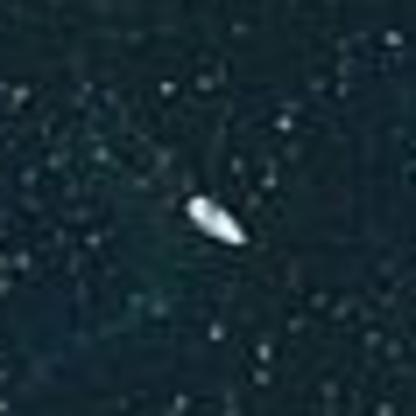ship: (180, 186, 252, 248)
